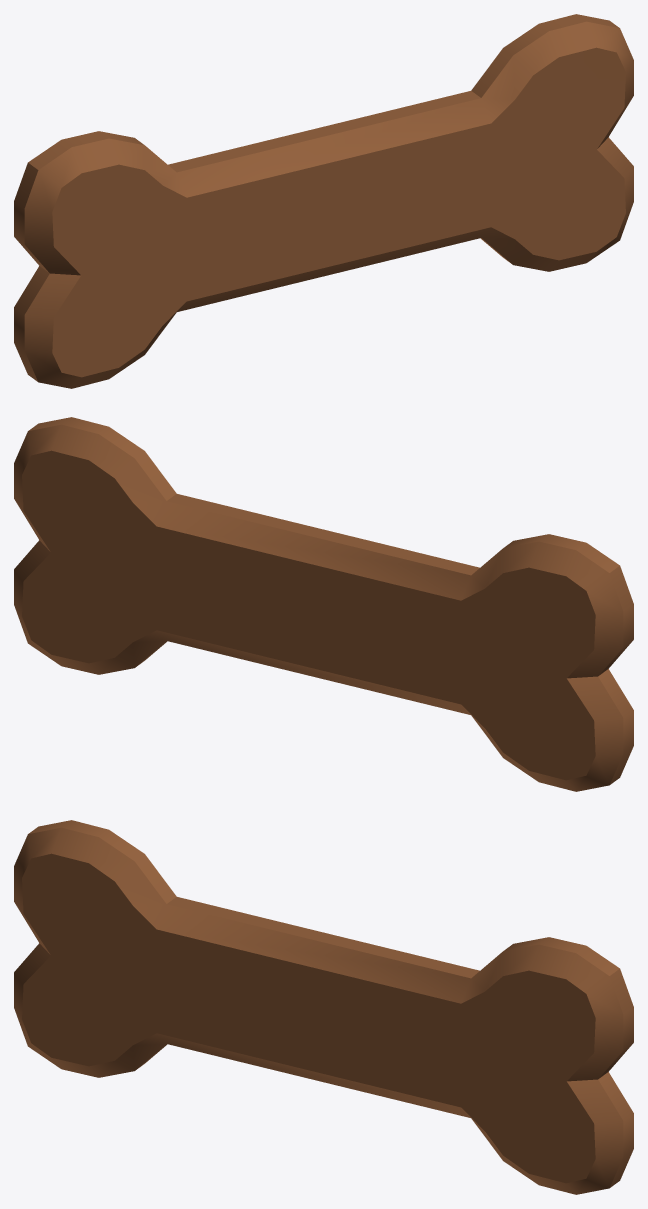
The model's file is dogbiscuit.fbx.
3 views of the same model, one above another, from view 1: azimuth 30°, elevation 25°; view 2: azimuth 150°, elevation 25°; view 3: azimuth 330°, elevation 25° (orthographic).
Parts seen in each view (by area): view 1: dogbiscuit; view 2: dogbiscuit; view 3: dogbiscuit.
Part boxes in pixels (box(x1,y1,x2,y2)): dogbiscuit: box(14, 14, 633, 388); dogbiscuit: box(14, 417, 633, 791); dogbiscuit: box(14, 820, 633, 1194).
Bounding box in the file's own units: 12.96 × 4.91 × 1.12.
